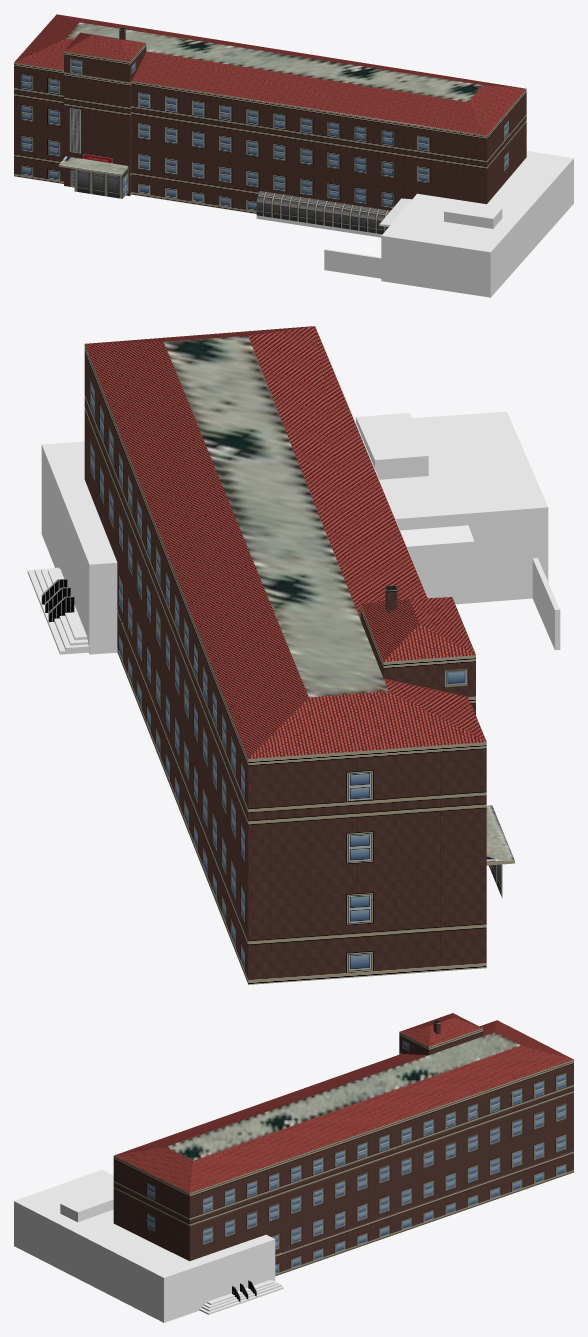
File: PUSH.fbx
3 views of the same model, one above another, from view 1: azimuth 30°, elevation 25°; view 2: azimuth 150°, elevation 25°; view 3: azimuth 270°, elevation 25° (orthographic). The views are drawn at different scales.
Visible parts, largest first — view 1: Model; view 2: Model; view 3: Model.
Boxes of the visible parts, bbox=[...] form: Model: bbox=[14, 14, 573, 297]; Model: bbox=[27, 326, 560, 984]; Model: bbox=[14, 1013, 573, 1322].
Size of the model in its own units: 2267 by 830 by 2826.
